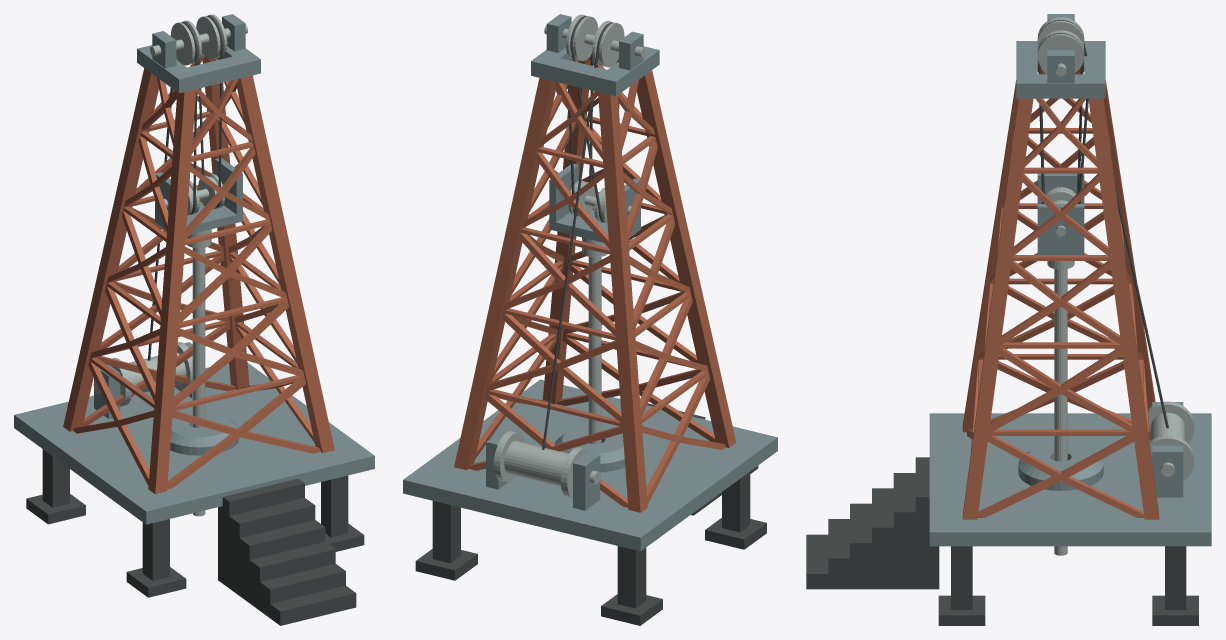
3 views of the same model, side by side, from view 1: azimuth 30°, elevation 25°; view 2: azimuth 150°, elevation 25°; view 3: azimuth 270°, elevation 25° (orthographic). The views are drawn at different scales.
Parts seen in each view (by area): view 1: WholeRaisedThroughOpeningFloor, WholeIntegratedApproachStair, WholeFrontTaperedOpenWeb, WholeLeftTaperedOpenWeb, WholeTaperedCorner00, WholeTaperedCorner10, WholeTaperedCorner01, WholeRearTaperedOpenWeb, WholeRightTaperedOpenWeb, WholeOpenCrownSupportFrame, WholeTaperedCorner11, WholeRaisedFloorFootAndLeg00 (+12 smaller); view 2: WholeRaisedThroughOpeningFloor, WholeRearTaperedOpenWeb, WholeLeftTaperedOpenWeb, WholeTaperedCorner01, WholeTaperedCorner11, WholeTaperedCorner00, WholeFrontTaperedOpenWeb, WholeRightTaperedOpenWeb, WholeRearDoubleFlangeDrum, WholeOpenCrownSupportFrame, WholeRaisedFloorFootAndLeg01, WholeRaisedFloorFootAndLeg11 (+12 smaller); view 3: WholeRaisedThroughOpeningFloor, WholeRightTaperedOpenWeb, WholeIntegratedApproachStair, WholeTaperedCorner10, WholeTaperedCorner11, WholeLeftTaperedOpenWeb, WholeOpenCrownSupportFrame, WholeRaisedFloorFootAndLeg10, WholeLoweredBlockFrame, WholeRaisedFloorFootAndLeg11, WholeTaperedCorner00, WholeLongCentralFixedRod (+10 smaller).
Part boxes in pixels (<box>): WholeRaisedThroughOpeningFloor: <box>14,363,374,524</box>; WholeIntegratedApproachStair: <box>218,478,356,625</box>; WholeFrontTaperedOpenWeb: <box>167,79,320,489</box>; WholeLeftTaperedOpenWeb: <box>73,77,177,485</box>; WholeTaperedCorner00: <box>148,89,196,494</box>; WholeTaperedCorner10: <box>236,75,334,452</box>; WholeTaperedCorner01: <box>63,68,158,431</box>; WholeRearTaperedOpenWeb: <box>83,56,235,426</box>; WholeRightTaperedOpenWeb: <box>214,58,314,442</box>; WholeOpenCrownSupportFrame: <box>137,45,260,93</box>; WholeTaperedCorner11: <box>202,57,249,389</box>; WholeRaisedFloorFootAndLeg00: <box>126,519,186,597</box>; WholeRaisedThroughOpeningFloor: <box>403,379,777,551</box>; WholeRearTaperedOpenWeb: <box>468,81,628,507</box>; WholeLeftTaperedOpenWeb: <box>618,80,725,503</box>; WholeTaperedCorner01: <box>598,92,647,512</box>; WholeTaperedCorner11: <box>454,78,556,470</box>; WholeTaperedCorner00: <box>636,70,736,447</box>; WholeFrontTaperedOpenWeb: <box>557,57,715,442</box>; WholeRightTaperedOpenWeb: <box>475,60,579,459</box>; WholeRearDoubleFlangeDrum: <box>493,431,589,498</box>; WholeOpenCrownSupportFrame: <box>531,46,659,96</box>; WholeRaisedFloorFootAndLeg01: <box>601,546,662,625</box>; WholeRaisedFloorFootAndLeg11: <box>415,501,477,580</box>; WholeRaisedThroughOpeningFloor: <box>929,413,1211,546</box>; WholeRightTaperedOpenWeb: <box>977,98,1144,517</box>; WholeIntegratedApproachStair: <box>806,457,939,589</box>; WholeTaperedCorner10: <box>962,98,1033,519</box>; WholeTaperedCorner11: <box>1088,98,1159,519</box>; WholeLeftTaperedOpenWeb: <box>990,65,1131,423</box>; WholeOpenCrownSupportFrame: <box>1016,41,1105,98</box>; WholeRaisedFloorFootAndLeg10: <box>938,546,985,625</box>; WholeLoweredBlockFrame: <box>1037,173,1084,254</box>; WholeRaisedFloorFootAndLeg11: <box>1152,546,1198,625</box>; WholeTaperedCorner00: <box>962,80,1018,432</box>; WholeLongCentralFixedRod: <box>1054,269,1067,555</box>.
Bounding box in the file's own units: 2.9 × 6.17 × 4.17.
